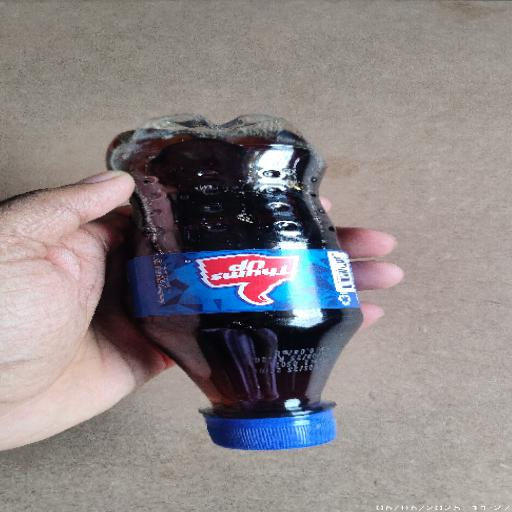Thumps Up: (62, 99, 392, 477)
